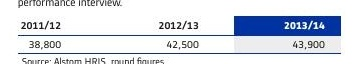table: (0, 0, 363, 64)
